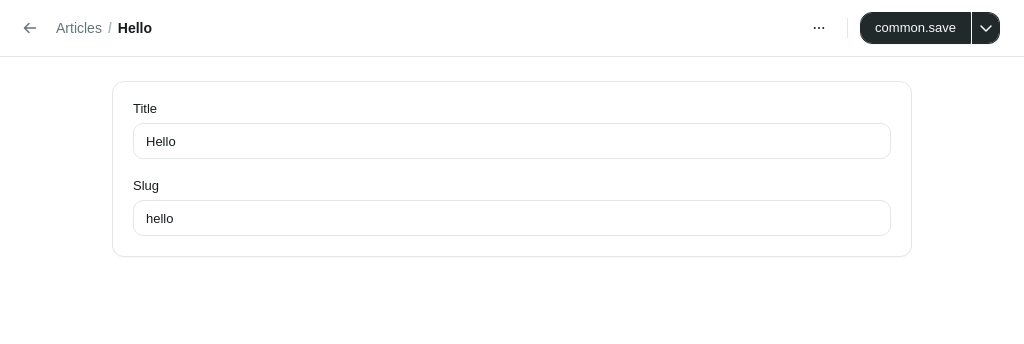
Test: Model validation errors › clears them when the next save succeeds
Expected: the field showing "hello" below "Slug" is shown, 133,200 -> 891,236
Click the button "common.save": (916, 28) 860,12 -> 971,44
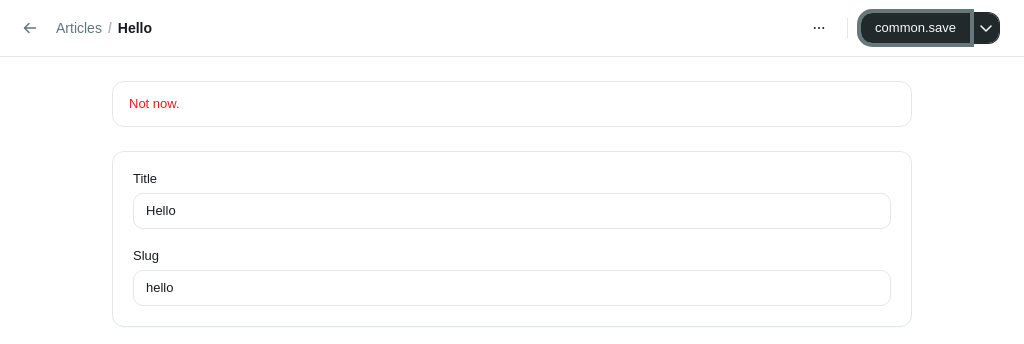
Expected: the message "Not now." is shown, 112,81 -> 912,126
Click the button "common.save": (916, 28) 860,12 -> 971,44
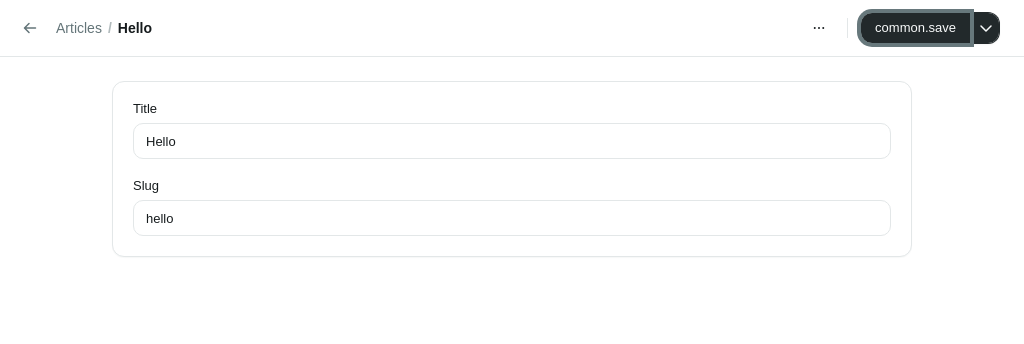
Expected: the message with test id "non-field-errors" is gone
